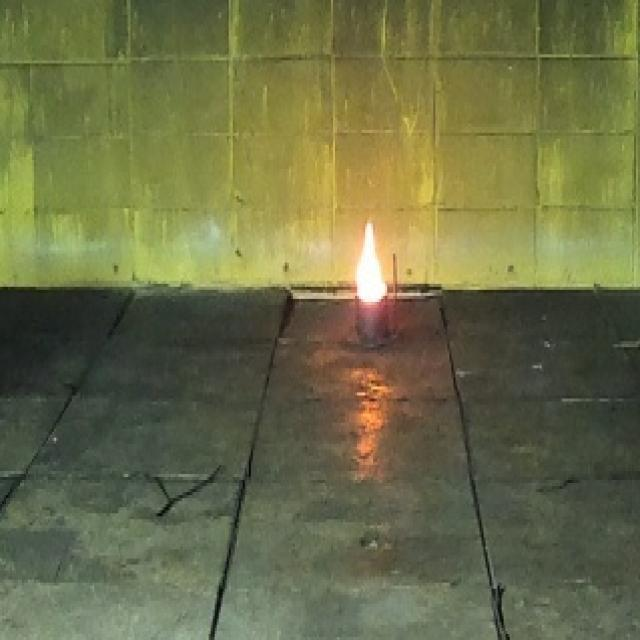Fire: (356, 219, 387, 306)
